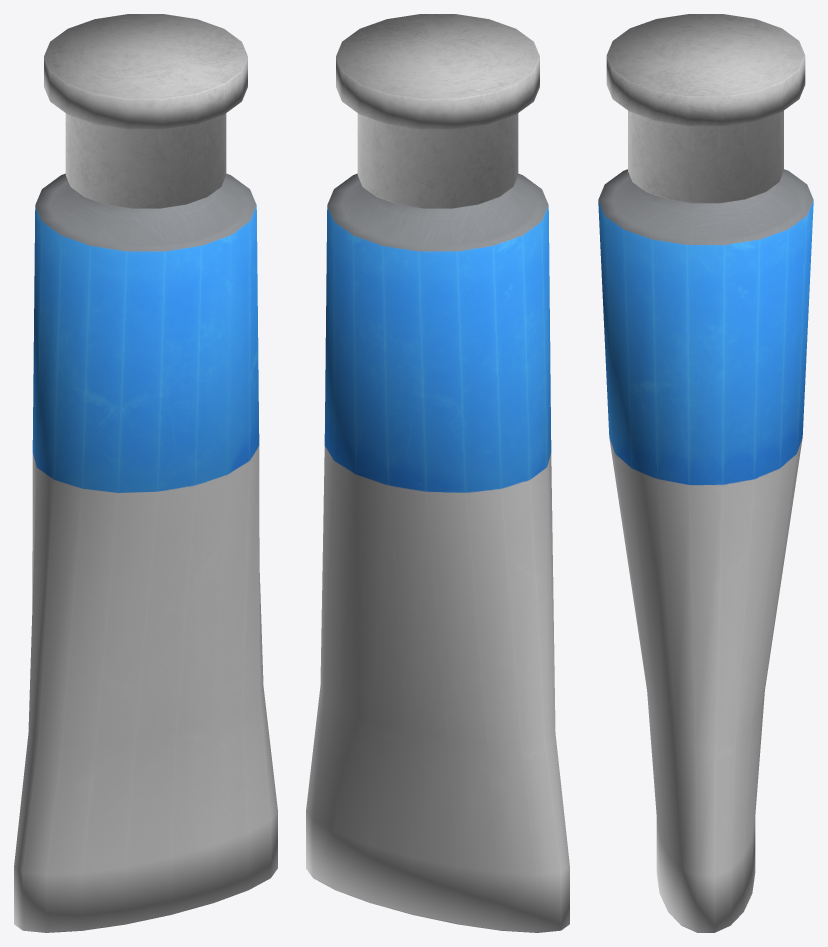
Rendered from tuboDeTInta_TEXTURIZADO_azul.fbx.
3 views of the same model, side by side, from view 1: azimuth 30°, elevation 25°; view 2: azimuth 150°, elevation 25°; view 3: azimuth 270°, elevation 25° (orthographic). The views are drawn at different scales.
Visible parts, largest first — view 1: t azul; view 2: t azul; view 3: t azul.
Boxes of the visible parts, x1,y1,x2,y2 form: t azul: (14,14,277,932); t azul: (306,14,569,932); t azul: (598,14,813,932).
Size of the model in its own units: 5.55 by 17.48 by 4.18.
1 material, 1 textured.
